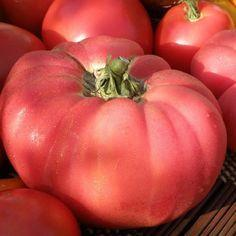healthy-tomato: (1, 37, 229, 231), (153, 1, 236, 75), (1, 173, 82, 236)
